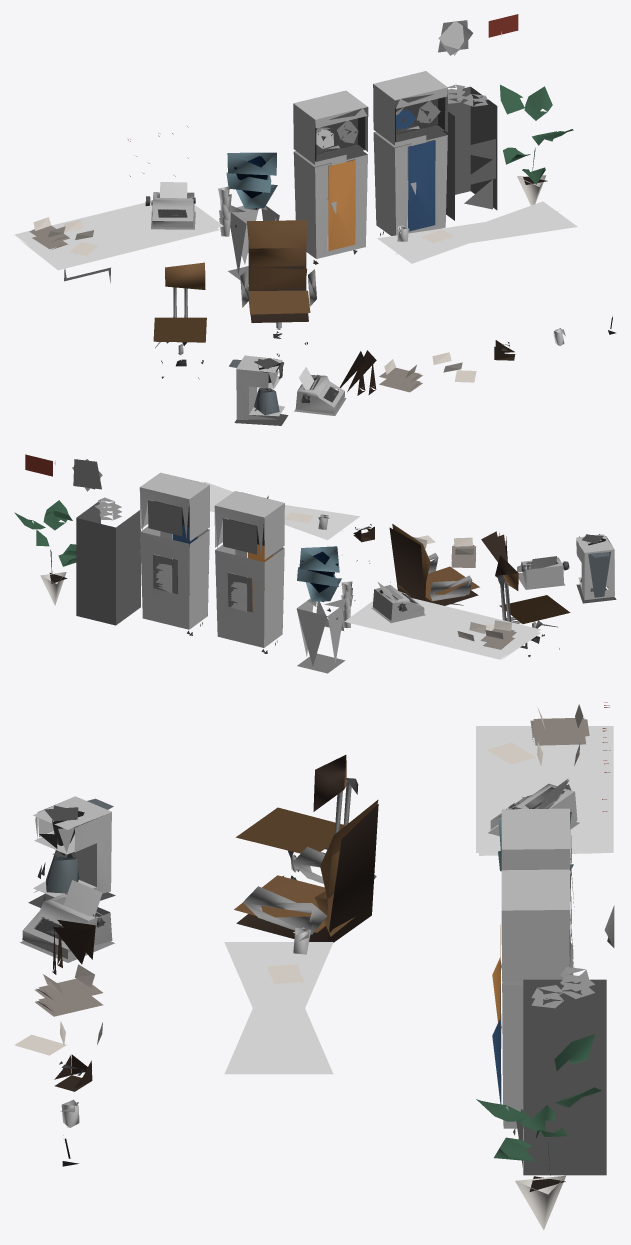
3 views of the same model, one above another, from view 1: azimuth 30°, elevation 25°; view 2: azimuth 150°, elevation 25°; view 3: azimuth 270°, elevation 25° (orthographic). The views are drawn at different scales.
Parts seen in each view (by area): view 1: Cube.000, Cube.022, Cube.021, Cube.016, Cube.003, Cube.023, Cube.020, Cube.015, Cube.004, Cylinder.003, Cube.007, Cube (+1 smaller); view 2: Cube.022, Cube.000, Cube.003, Cube.023, Cube.016, Cube.021, Cube.015, Cube.004, Cylinder.003, Cube.020, Cube, Cube.007 (+3 smaller); view 3: Cube.003, Cube.016, Cube.000, Cube.021, Cube.020, Cube.015, Cube.022, Cube.004, Cylinder.003, Cube, Cube.007, Cube.010 (+4 smaller).
Part boxes in pixels (left/top/right/bottom): Cube.000: left=373, top=71, right=447, bottom=235; Cube.022: left=293, top=90, right=368, bottom=264; Cube.021: left=240, top=220, right=316, bottom=356; Cube.016: left=14, top=201, right=223, bottom=283; Cube.003: left=443, top=86, right=497, bottom=220; Cube.023: left=218, top=152, right=279, bottom=284; Cube.020: left=377, top=201, right=577, bottom=263; Cube.015: left=229, top=355, right=288, bottom=425; Cube.004: left=153, top=262, right=206, bottom=379; Cylinder.003: left=500, top=84, right=573, bottom=205; Cube.007: left=145, top=182, right=195, bottom=229; Cube: left=294, top=367, right=346, bottom=415; Cube.022: left=214, top=491, right=284, bottom=653; Cube.000: left=139, top=472, right=209, bottom=635; Cube.003: left=76, top=500, right=140, bottom=625; Cube.023: left=296, top=546, right=353, bottom=673; Cube.016: left=344, top=598, right=540, bottom=659; Cube.021: left=389, top=524, right=479, bottom=605; Cube.015: left=576, top=534, right=616, bottom=603; Cube.004: left=495, top=555, right=570, bottom=656; Cylinder.003: left=14, top=500, right=76, bottom=605; Cube.020: left=203, top=482, right=359, bottom=540; Cube: left=517, top=556, right=569, bottom=589; Cube.007: left=371, top=582, right=425, bottom=622; Cube.003: left=516, top=979, right=606, bottom=1175; Cube.016: left=476, top=726, right=613, bottom=855; Cube.000: left=492, top=869, right=574, bottom=1135; Cube.021: left=234, top=800, right=378, bottom=942; Cube.020: left=224, top=942, right=333, bottom=1074; Cube.015: left=28, top=796, right=115, bottom=907; Cube.022: left=492, top=808, right=574, bottom=1048; Cube.004: left=235, top=755, right=358, bottom=880; Cylinder.003: left=476, top=1034, right=601, bottom=1230; Cube: left=20, top=880, right=114, bottom=962; Cube.007: left=488, top=778, right=579, bottom=835; Cube.010: left=530, top=717, right=589, bottom=737.
Size of the model in its own units: 801 by 273 by 510.
